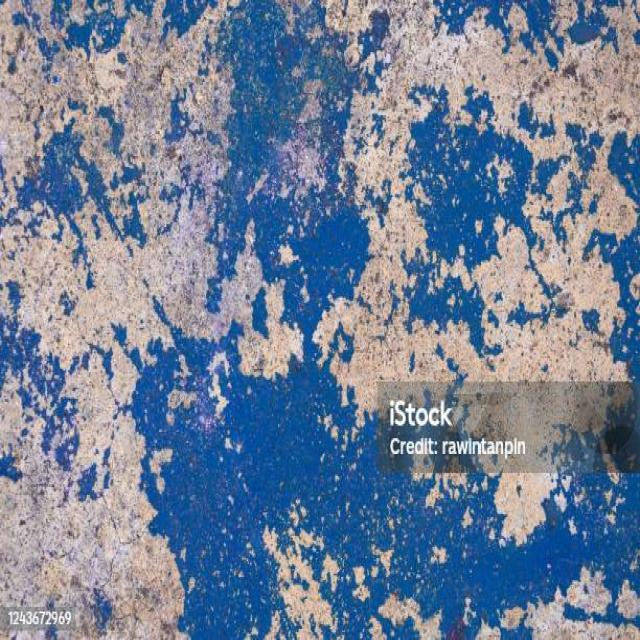peeling: (266, 18, 633, 639), (6, 0, 283, 634)
